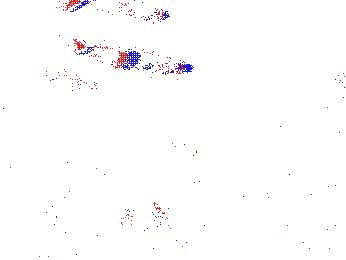X-ray fish: (114, 190, 171, 236)
glassfish: (168, 138, 272, 190)
redtail glassfish: (74, 35, 151, 71), (63, 1, 177, 24), (110, 47, 188, 79), (40, 67, 99, 97)
